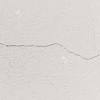crack: (0, 40, 98, 59)
